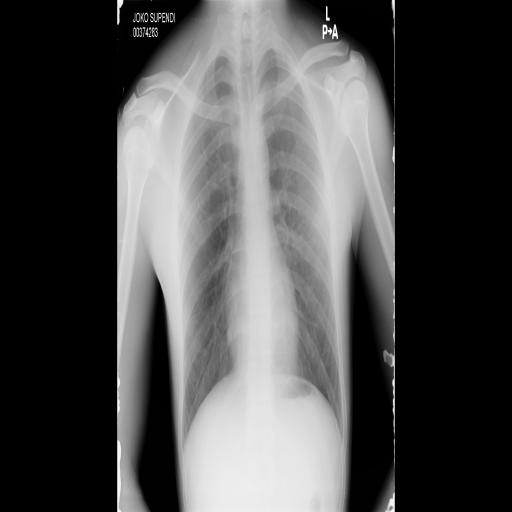normal: (178, 18, 348, 462)
